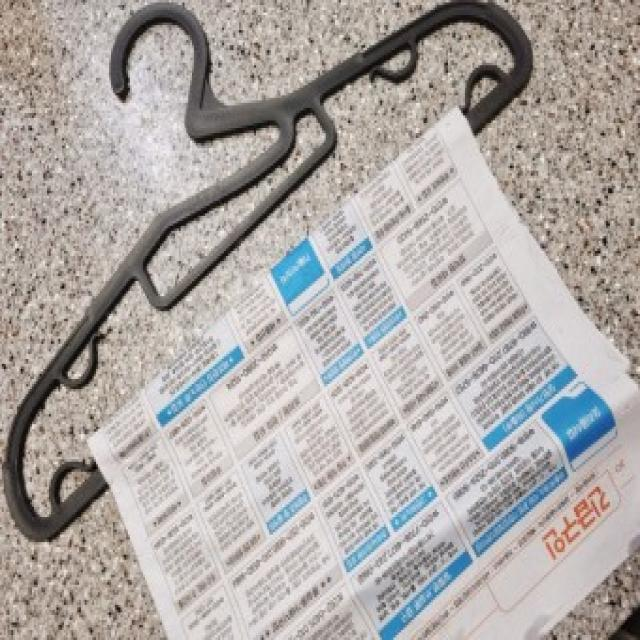Newspaper: (85, 94, 640, 637)
